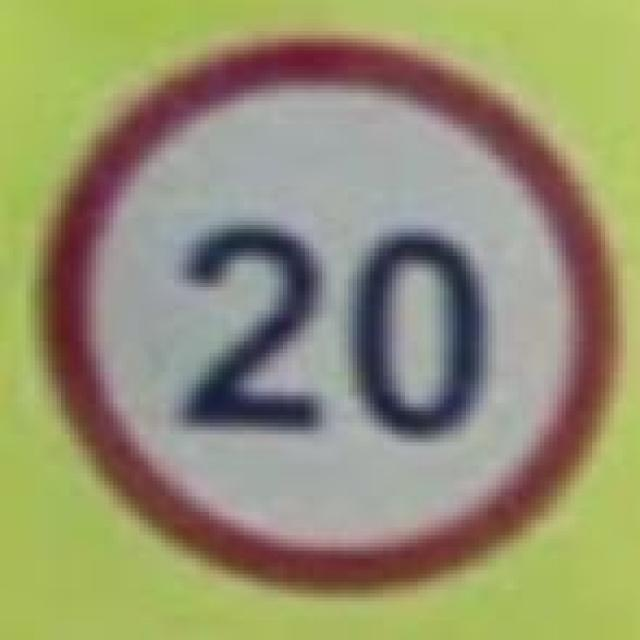Ograniczenie predkosci do 20: (31, 23, 632, 605)
